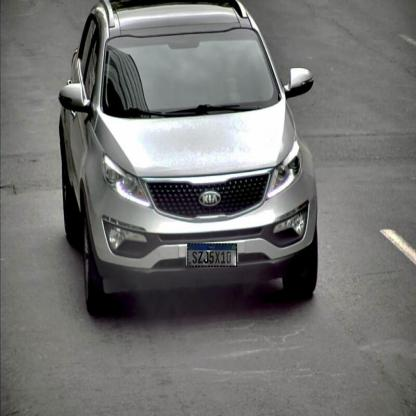PlacaM: (187, 243, 237, 267)
